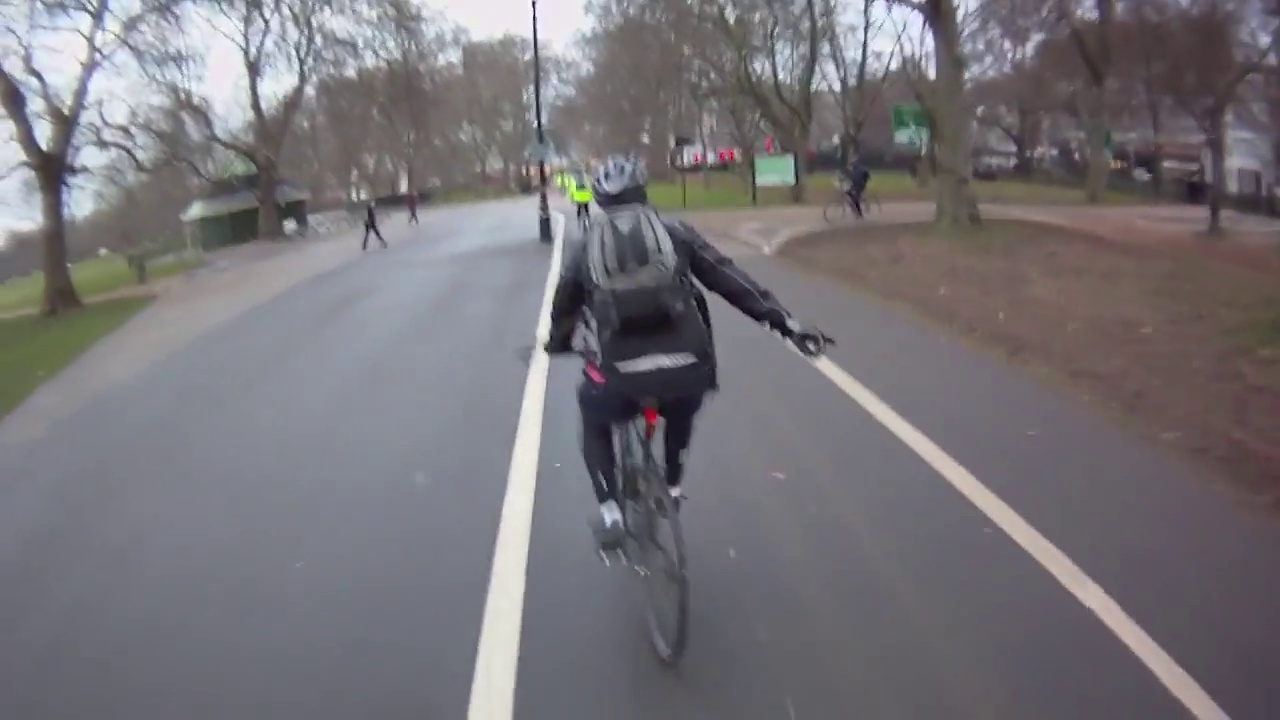cyclist_back: (523, 161, 817, 686), (565, 159, 598, 244)
cyclist_side: (822, 148, 888, 232)
